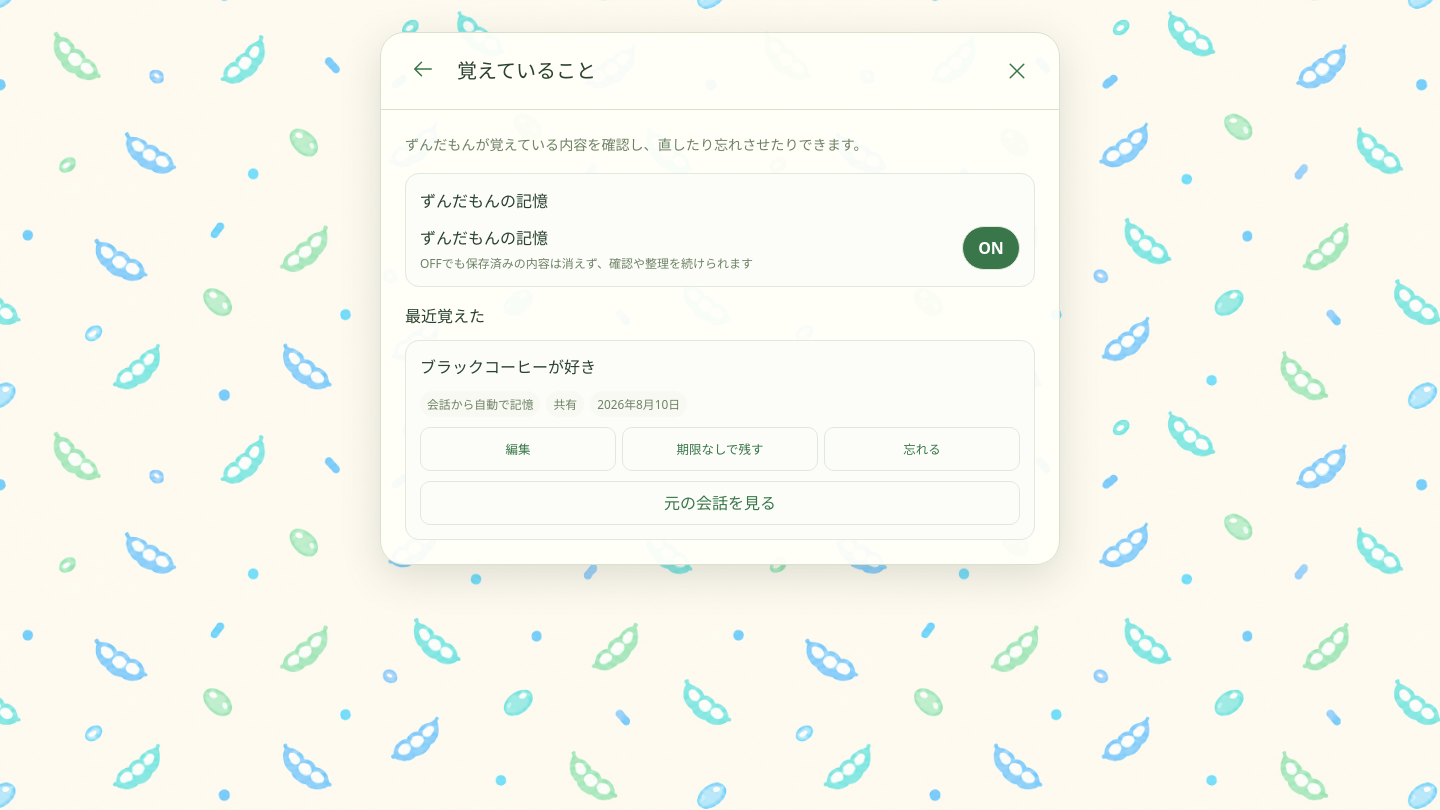
saved memories › keeps a successful forget when only the tombstone refresh fails
The image size is (1440, 810).
Click the button with aria-label "ブラックコーヒーが好きを忘れる". click: (922, 449)
box: [824,427,1020,471]
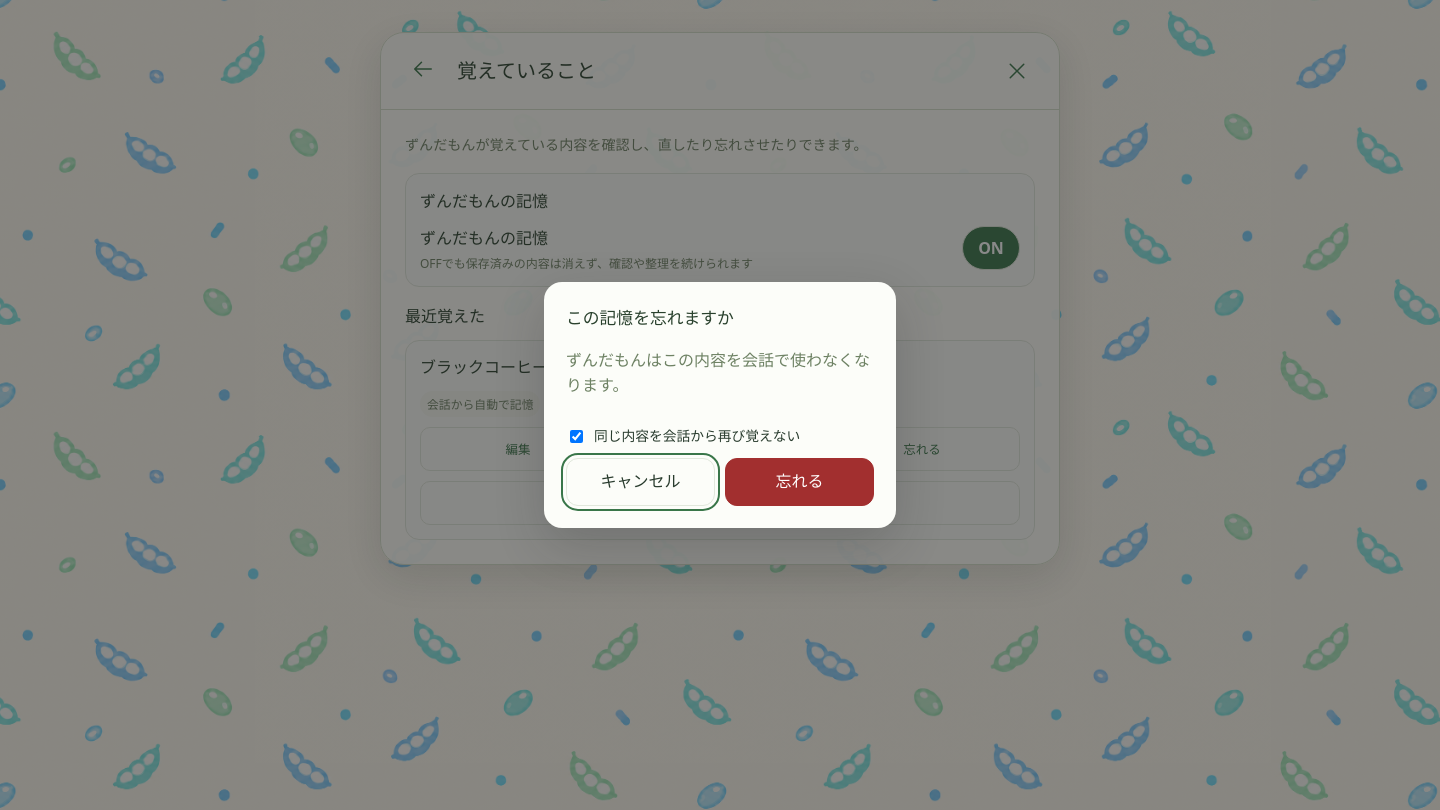
Click the button "忘れる". click: (800, 482)
box: [725,458,874,506]
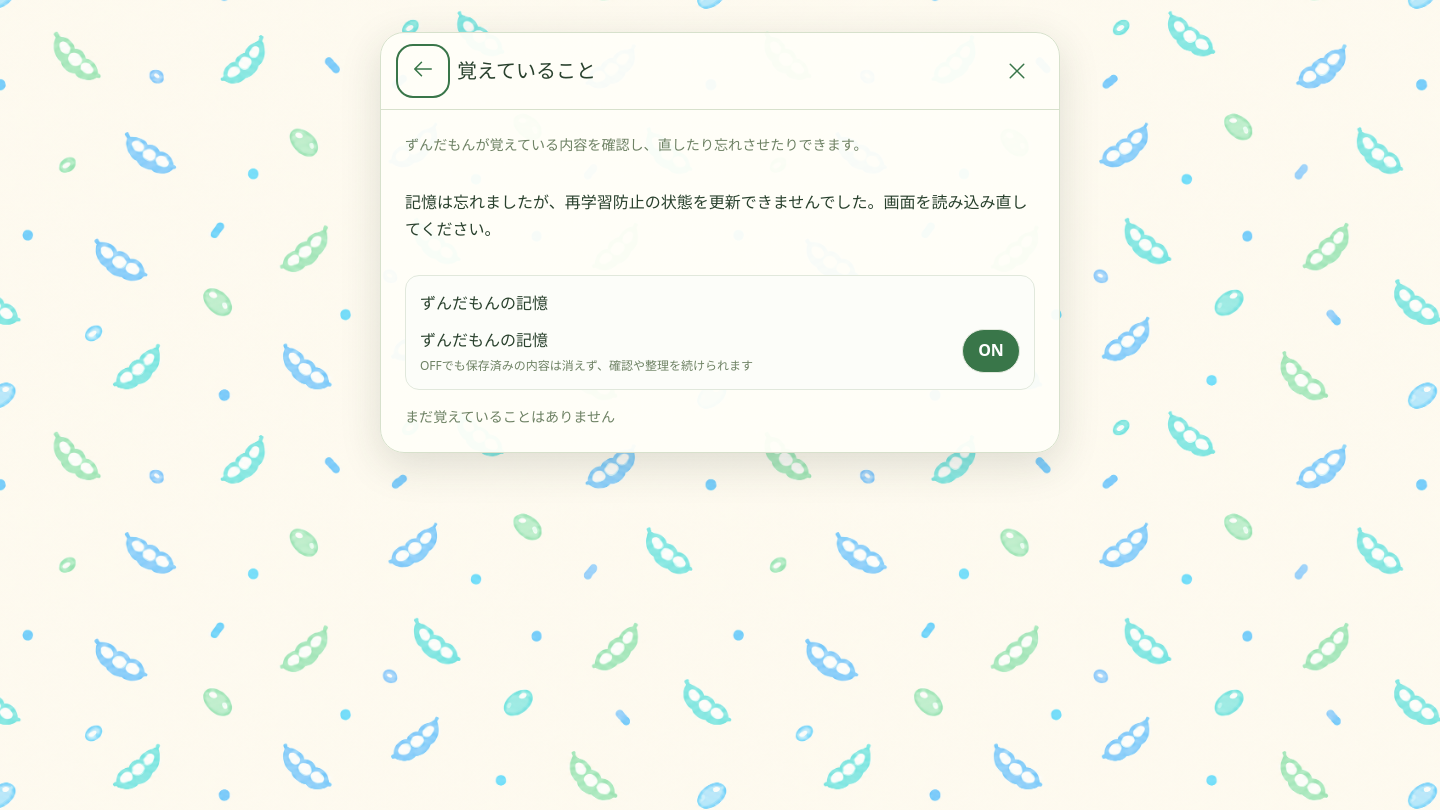
Check: the message does not show "忘れられませんでした", box [405,188,1035,243]
Check: the text "ブラックコーヒーが好き" is gone
Check: the message shows "再学習防止の状態を更新できませんでした", box [405,190,1027,240]
